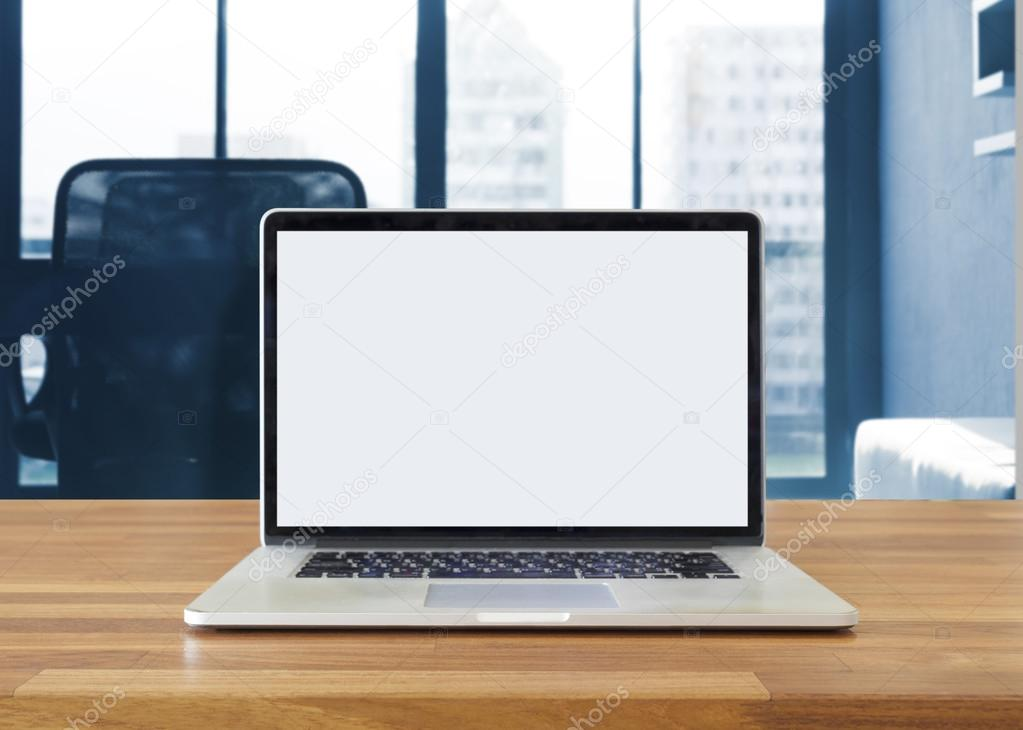Laptop: (168, 195, 866, 647)
